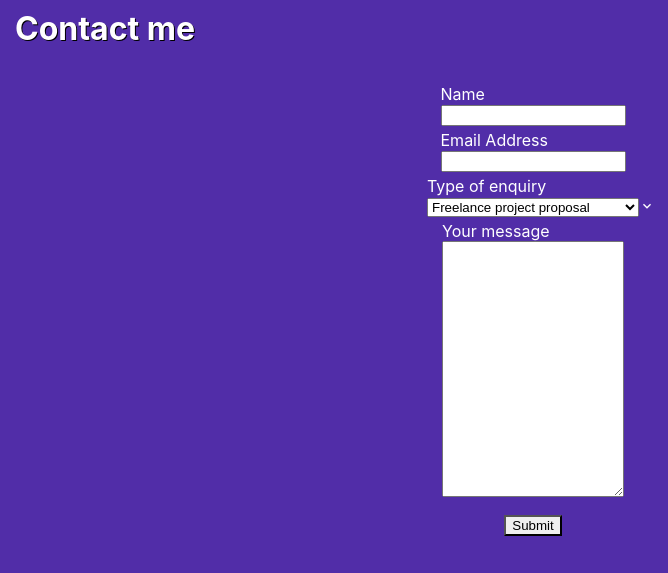
Test: ContactMeSection Component › shows minimum length message on submit without a message
In the field labelled "Name": point(533, 115) [440,105,626,126], type "John Doe"
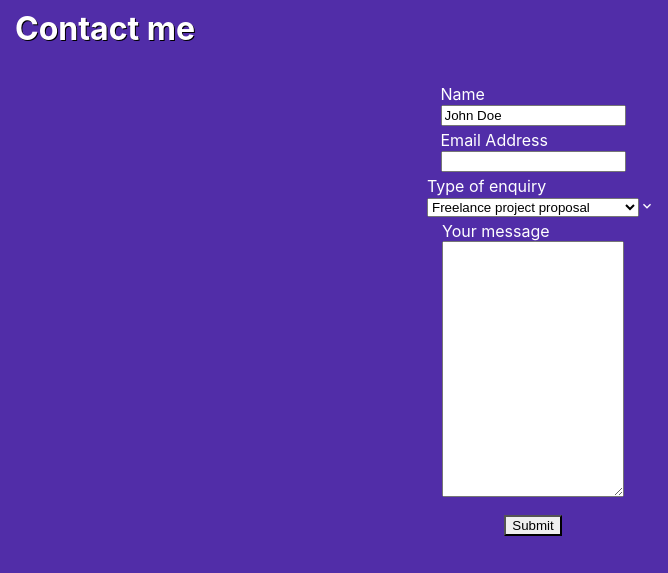
In the field labelled "Email Address": point(533, 161) [440,151,626,172], type "john@example.com"
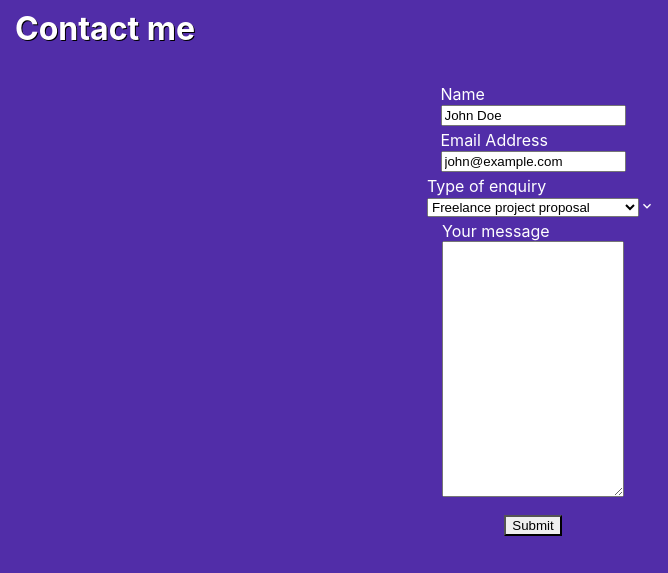
In the text box labelled "Your message": point(533, 369) [442,241,624,497], type "Hello"
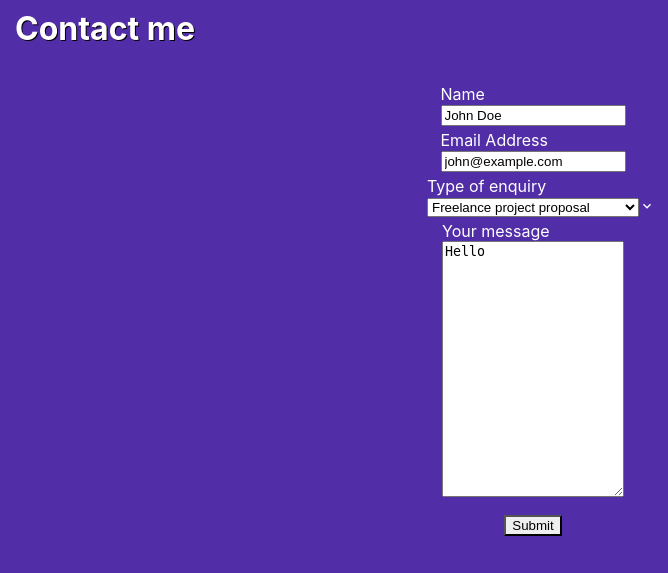
Click the button "Submit": point(533, 525) [504,515,562,536]
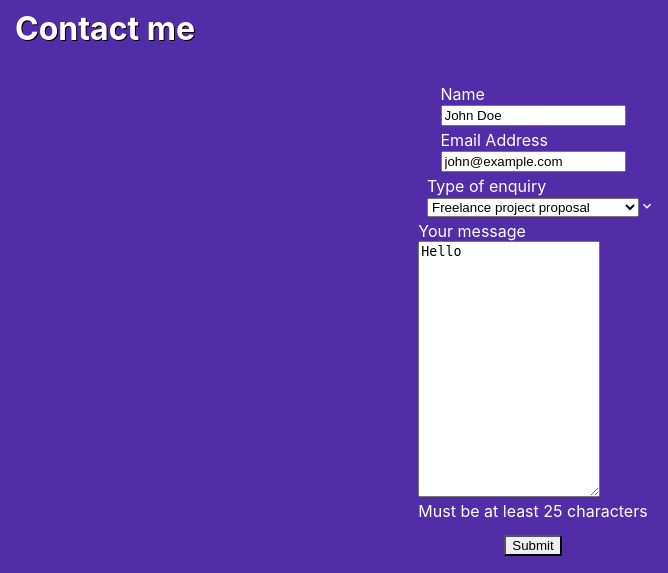
expect the text "Must be at least 25 characters" is shown once: met, box [418,501,648,521]
